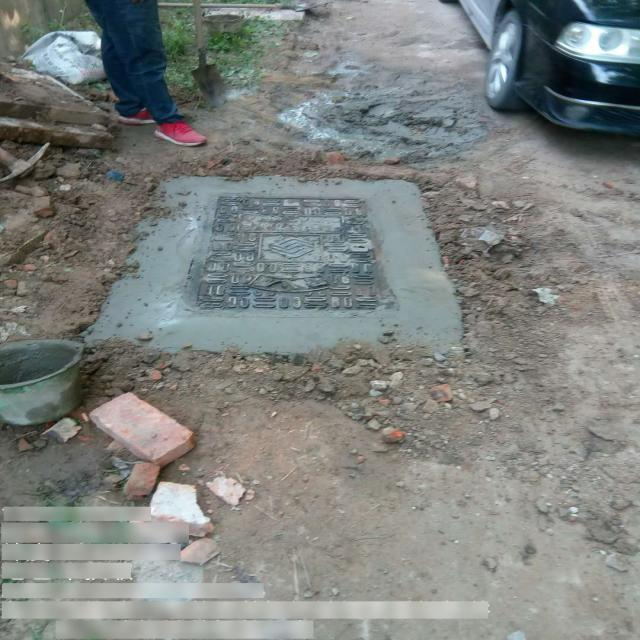Good: (182, 192, 396, 318)
